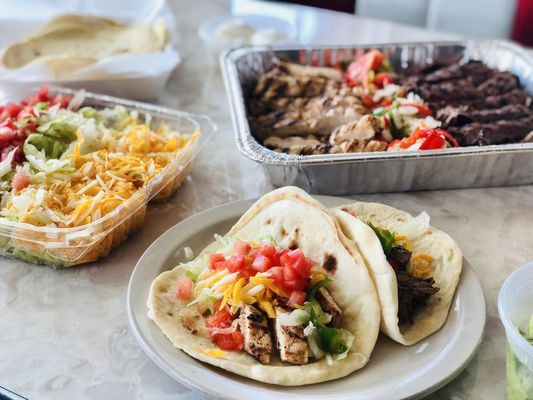pizza: (497, 260, 533, 400)
sushi: (220, 42, 532, 199), (0, 83, 203, 269), (497, 259, 533, 400)
